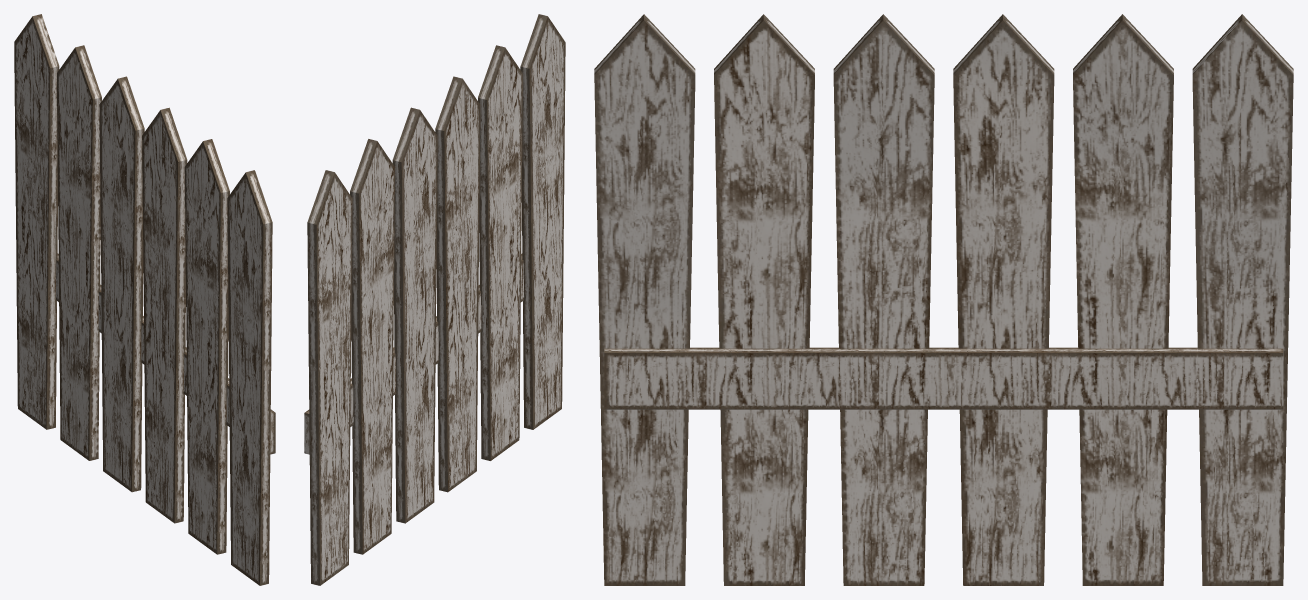
Rendered from uploads_files_306133_fence.fbx.
The picture shows the model from 3 angles, left to right: view 1: azimuth 30°, elevation 25°; view 2: azimuth 150°, elevation 25°; view 3: azimuth 270°, elevation 25°; orthographic projection. The views are drawn at different scales.
Parts seen in each view (by area): view 1: Cube_6_1; view 2: Cube_6_1; view 3: Cube_6_1.
Boxes of the visible parts, bbox=[...] form: Cube_6_1: bbox=[14, 14, 275, 585]; Cube_6_1: bbox=[304, 14, 565, 585]; Cube_6_1: bbox=[594, 14, 1293, 585].
Bounding box in the file's own units: 19.32 × 470 × 526.
Materials: 1 (1 with a texture image).
